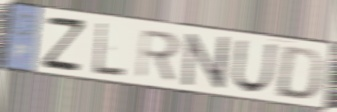D: (272, 44, 327, 101)
L: (93, 20, 127, 79)
N: (181, 32, 230, 91)
R: (135, 28, 182, 84)
U: (230, 38, 278, 95)
Z: (41, 15, 86, 73)
